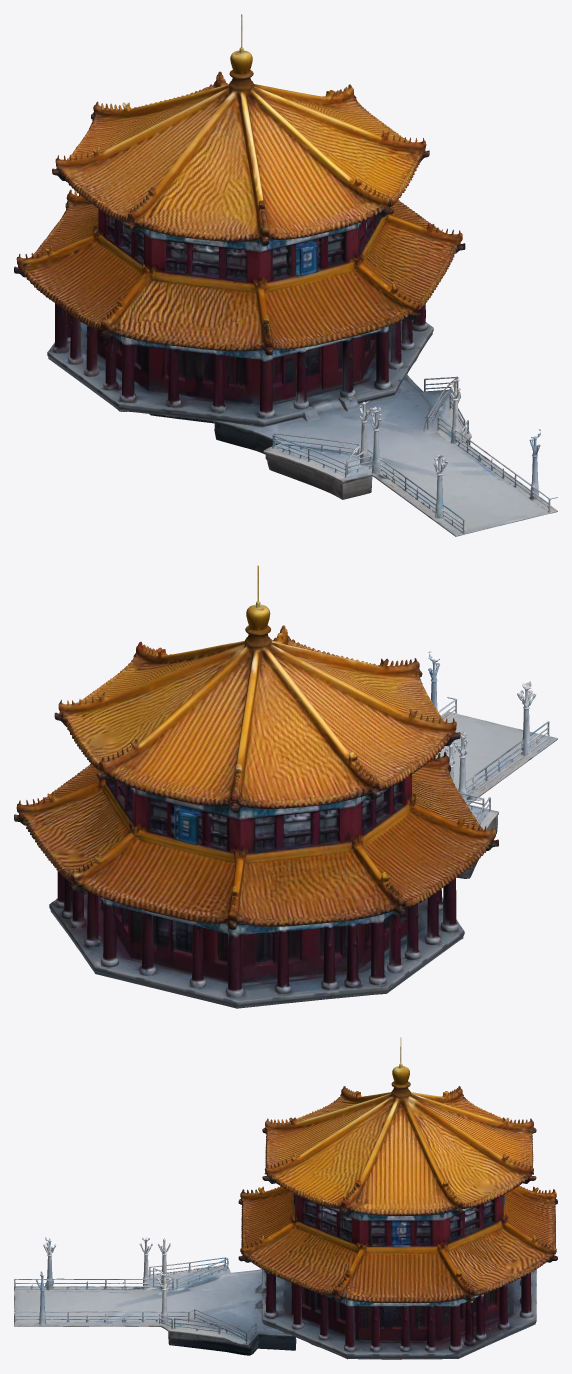
File: 2回澜阁建筑模型.glb
3 views of the same model, one above another, from view 1: azimuth 30°, elevation 25°; view 2: azimuth 150°, elevation 25°; view 3: azimuth 270°, elevation 25° (orthographic). The views are drawn at different scales.
Parts seen in each view (by area): view 1: node_0; view 2: node_0; view 3: node_0.
Part boxes in pixels (<box>): node_0: <box>14,14,557,536</box>; node_0: <box>14,565,557,1008</box>; node_0: <box>14,1037,557,1359</box>.
Bounding box in the file's own units: 0.6401 × 0.5923 × 1.05.
Materials: 1 (1 with a texture image).
